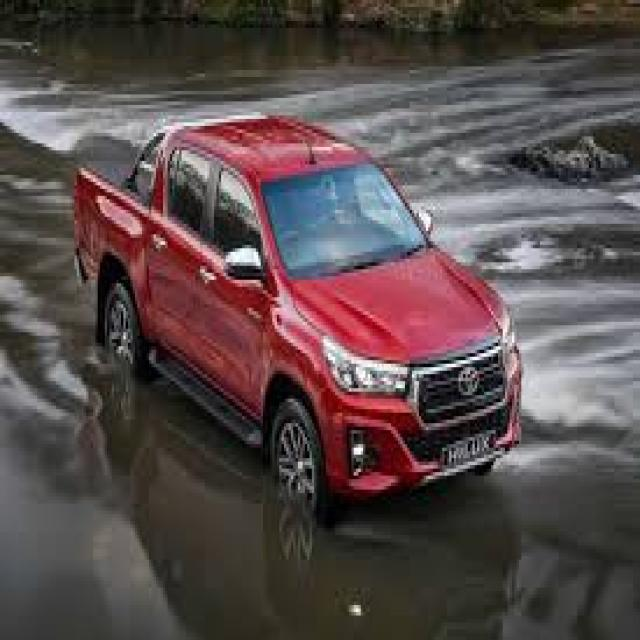Pickup Trucks: (72, 109, 524, 518)
